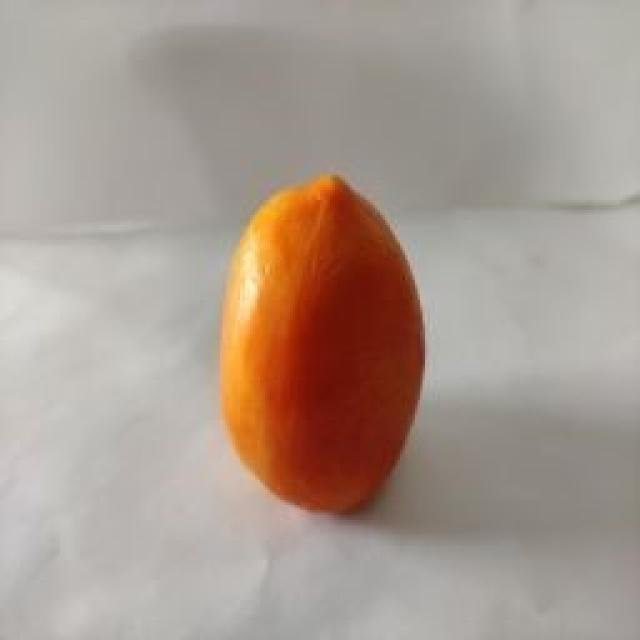unripe: (83, 57, 595, 565)
